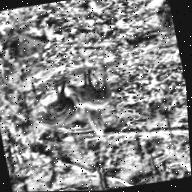boar: (32, 86, 87, 145), (67, 74, 113, 118), (82, 107, 105, 142)
